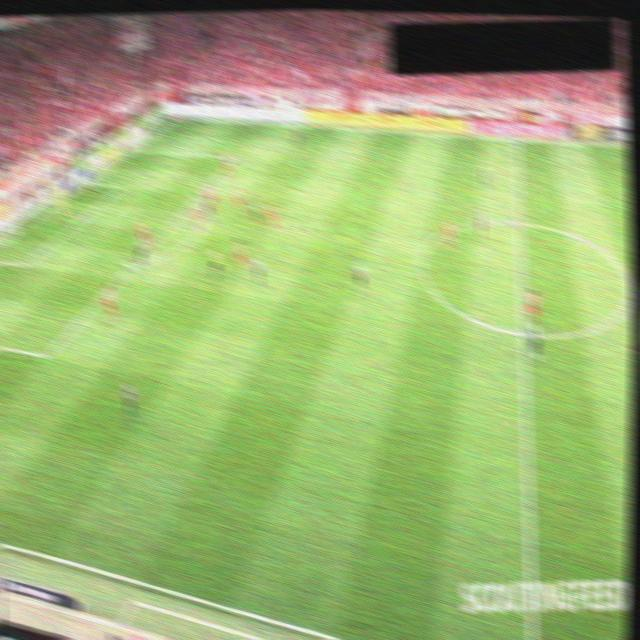bigarea_bottom_inner: (38, 350, 54, 364)
bigarea_top_inner: (229, 151, 246, 165)
bigarea_top_outter: (123, 143, 140, 158)
bottom_arc_area_intersection: (123, 259, 140, 274)
corner: (168, 113, 184, 126)
halfcircle_bottom: (514, 327, 531, 340)
halfcircle_top: (511, 215, 528, 229)
midline_top_intersection: (509, 133, 525, 147)
smallarea_bottom_inner: (16, 258, 33, 272)
smallarea_top_inner: (114, 181, 130, 194)
smallarea_top_outter: (78, 176, 95, 191)
top_arc_area_intersection: (189, 194, 205, 207)
